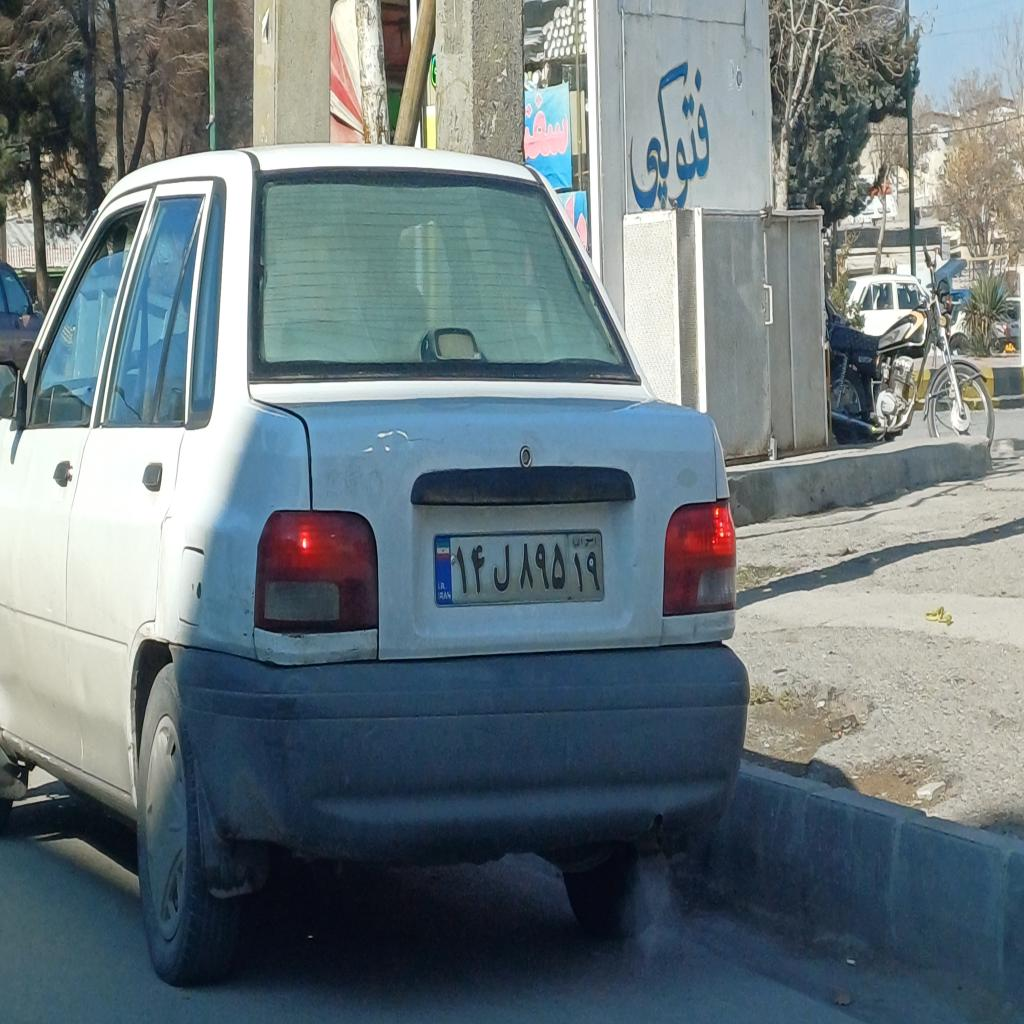Plates: (433, 530, 605, 606)
